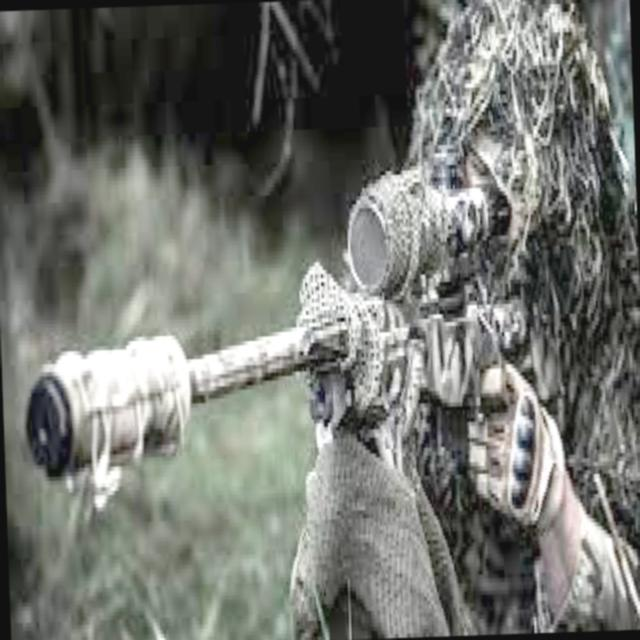rifle: (2, 137, 544, 478)
